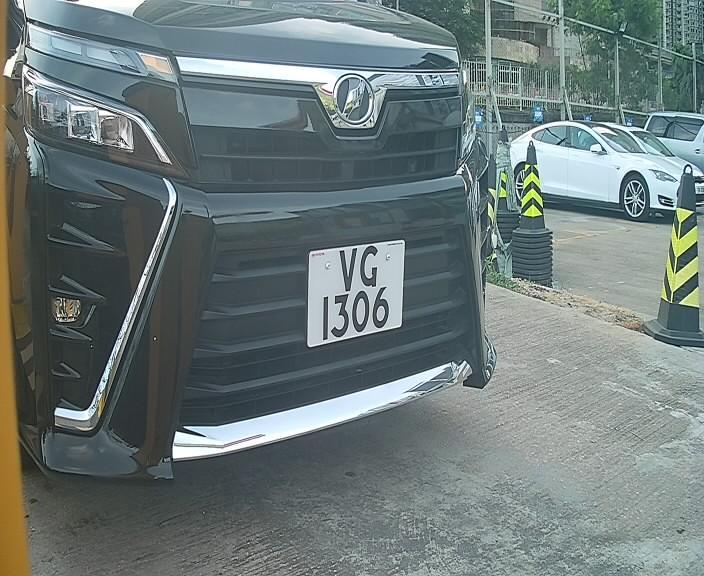privatecar: (26, 3, 522, 476)
